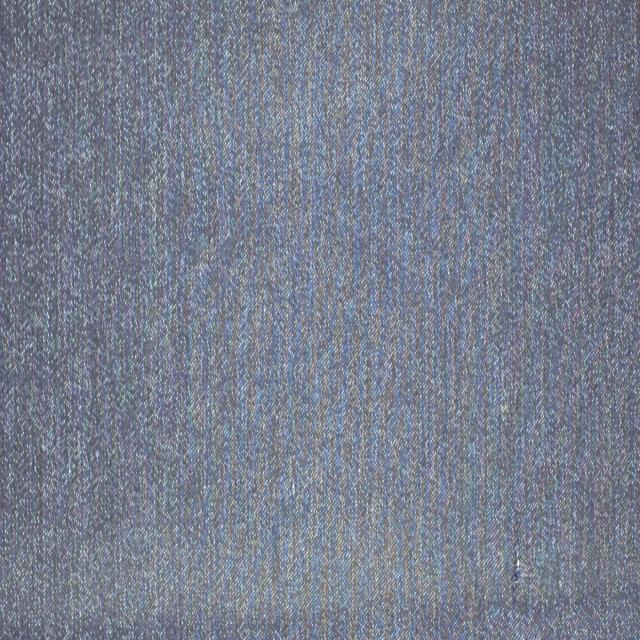Knot: (513, 553, 526, 596)
